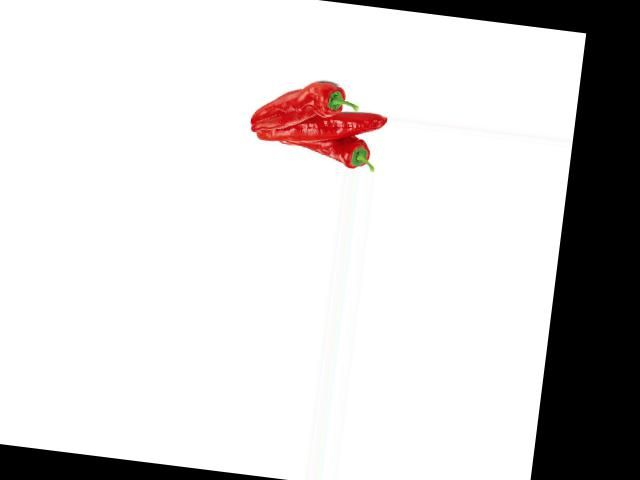bell_pepper: (249, 69, 364, 132)
